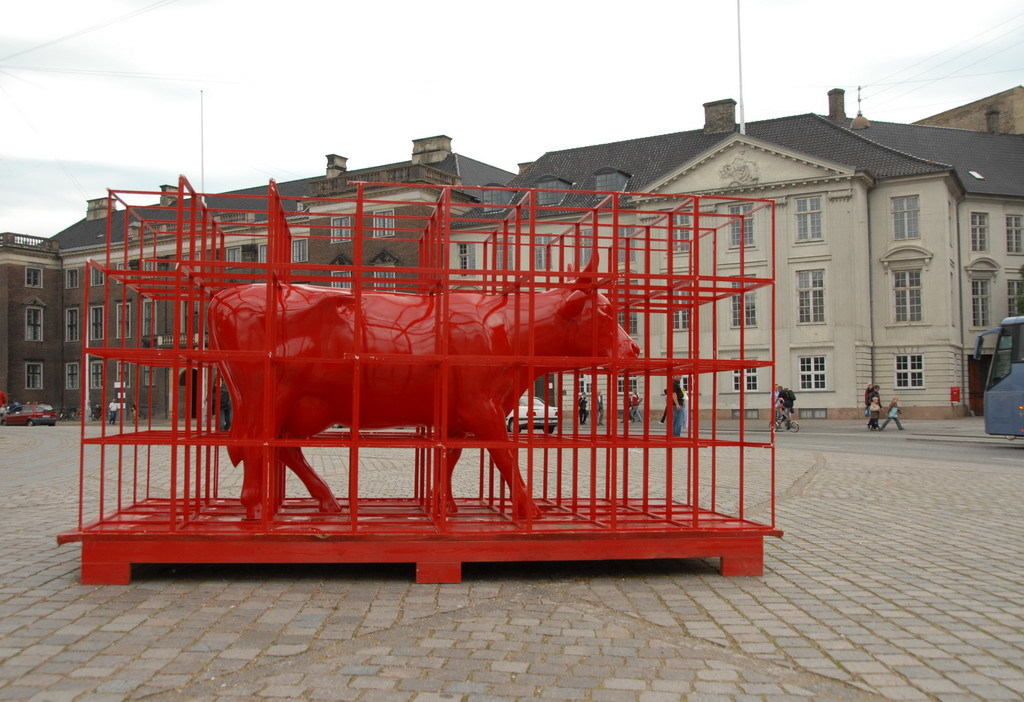Wheel: (509, 420, 521, 434), (768, 420, 780, 434), (791, 420, 801, 434), (545, 425, 554, 437), (27, 420, 35, 425), (49, 422, 54, 426), (2, 420, 3, 422)
